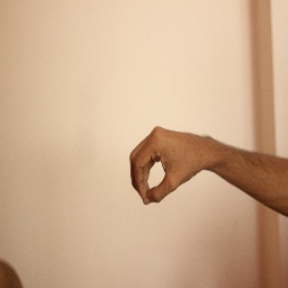O: (127, 124, 207, 208)
